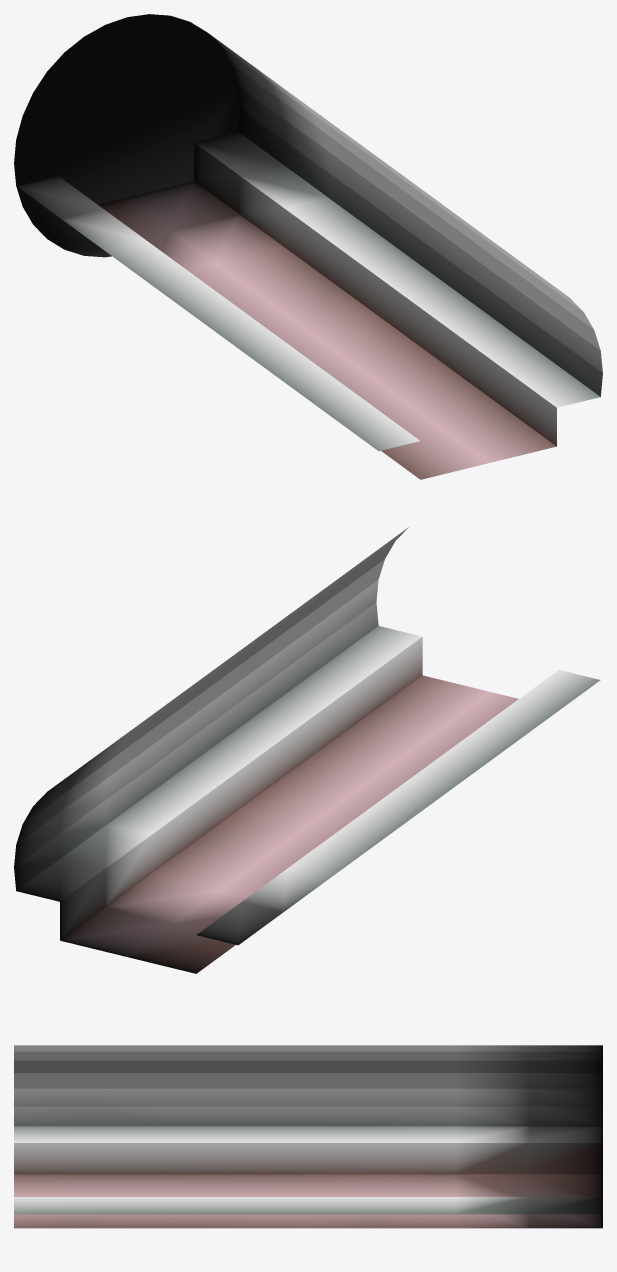
File: tunnel.glb
3 views of the same model, one above another, from view 1: azimuth 30°, elevation 25°; view 2: azimuth 150°, elevation 25°; view 3: azimuth 270°, elevation 25° (orthographic). The views are drawn at different scales.
Visible parts, largest first — view 1: Cylinder.001; view 2: Cylinder.001; view 3: Cylinder.001.
Part boxes in pixels (x1,y1,x2,y2): Cylinder.001: [14, 14, 602, 479]; Cylinder.001: [14, 527, 600, 973]; Cylinder.001: [14, 1045, 602, 1228].
Bounding box in the file's own units: 4.6 × 4.6 × 12.76.
